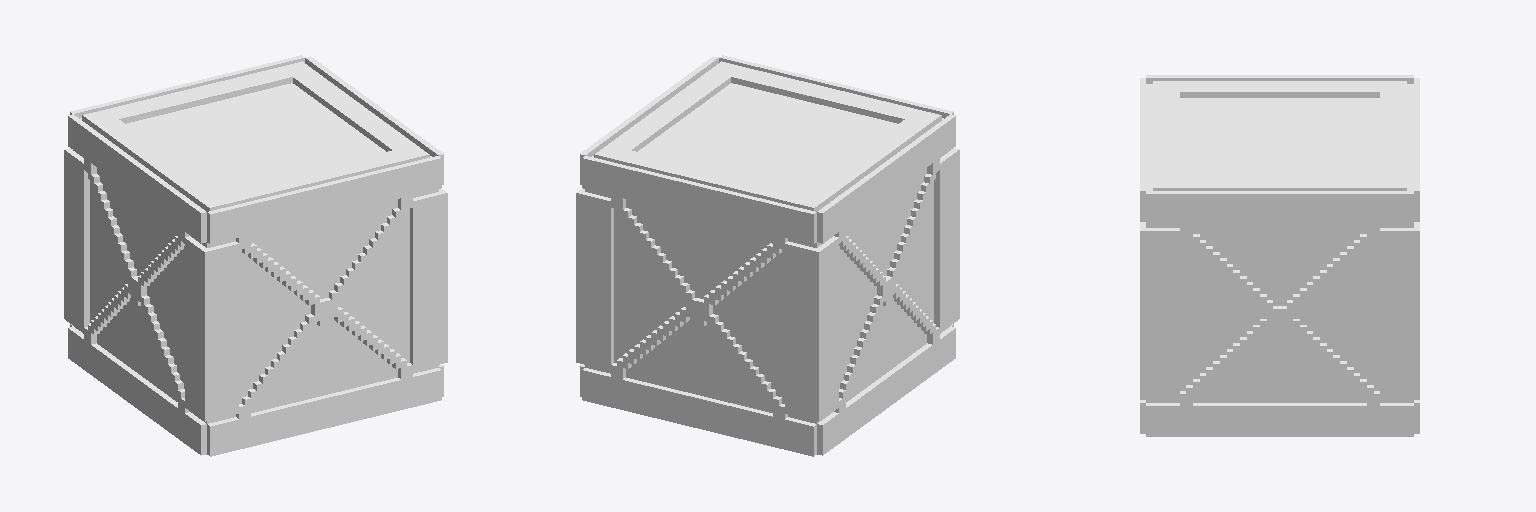
Rendered from space_crate.obj.
The picture shows the model from 3 angles: view 1: azimuth 30°, elevation 25°; view 2: azimuth 150°, elevation 25°; view 3: azimuth 270°, elevation 25°; orthographic projection.
Parts seen in each view (by area): view 1: space_crate; view 2: space_crate; view 3: space_crate.
Part boxes in pixels (left/top/right/bottom): space_crate: left=64, top=55, right=447, bottom=456; space_crate: left=576, top=55, right=959, bottom=456; space_crate: left=1140, top=75, right=1419, bottom=436.
Bounding box in the file's own units: 42 × 40 × 42.